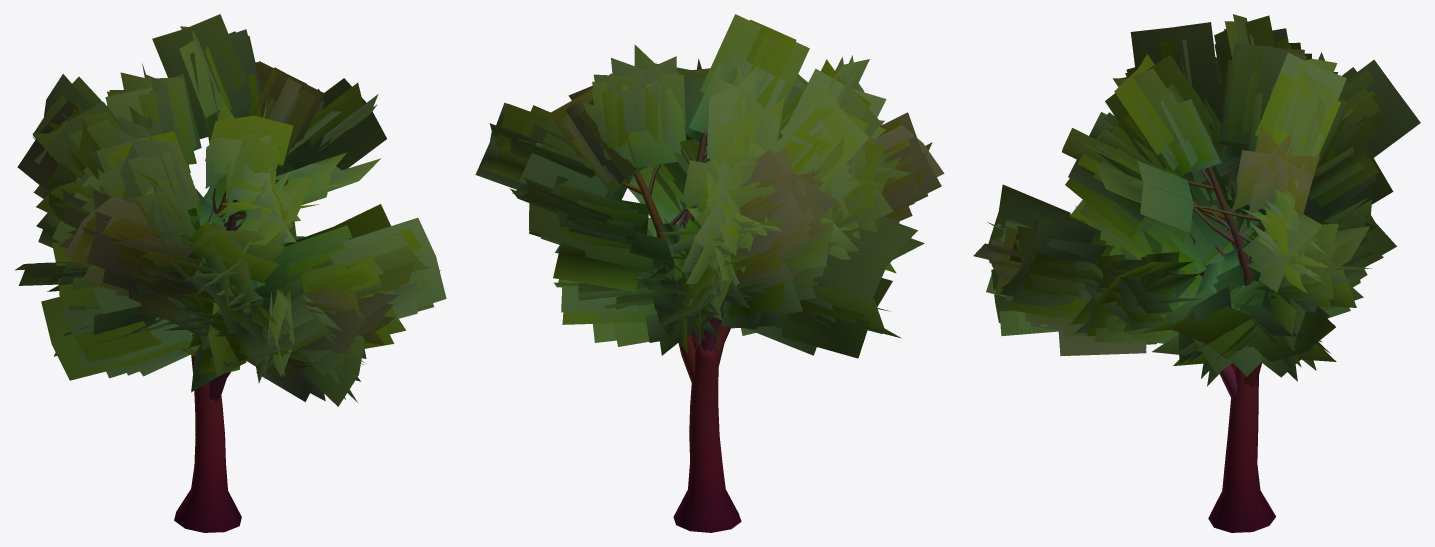
Rendered from veg_oak_b.glb.
3 renders of one model, left to right at view 1: azimuth 30°, elevation 25°; view 2: azimuth 150°, elevation 25°; view 3: azimuth 270°, elevation 25°, orthographic. The views are drawn at different scales.
Visible parts, largest first — view 1: veg_oak_b_LOD0; view 2: veg_oak_b_LOD0; view 3: veg_oak_b_LOD0.
Part boxes in pixels (bbox=[...]): veg_oak_b_LOD0: bbox=[15, 14, 446, 532]; veg_oak_b_LOD0: bbox=[475, 14, 944, 532]; veg_oak_b_LOD0: bbox=[973, 14, 1420, 532].
Size of what is drawn, in the model's own units: 2.98 by 3.47 by 2.94.
